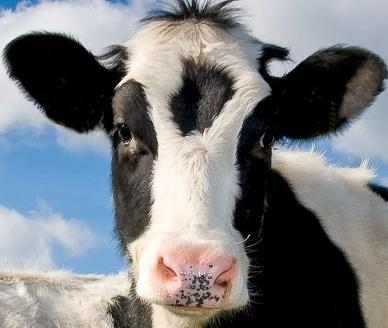muzzles: (133, 238, 249, 321)
